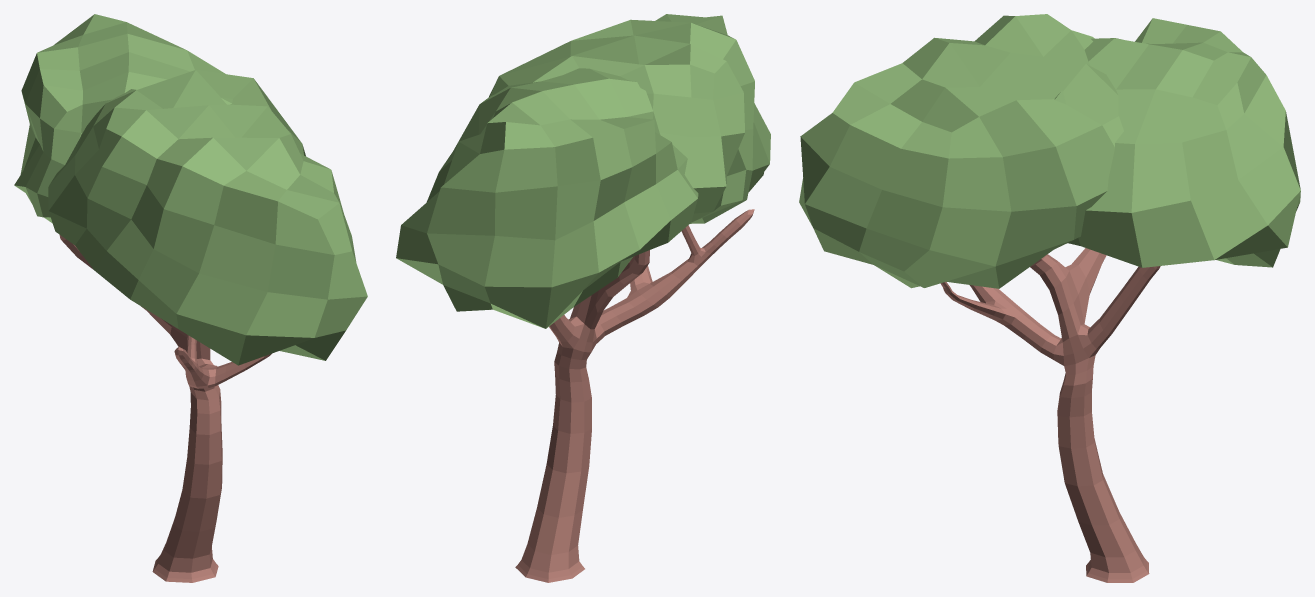
File: tree_5.glb
The picture shows the model from 3 angles, left to right: view 1: azimuth 30°, elevation 25°; view 2: azimuth 150°, elevation 25°; view 3: azimuth 270°, elevation 25°; orthographic projection. The views are drawn at different scales.
Visible parts, largest first — view 1: CommonTree_5; view 2: CommonTree_5; view 3: CommonTree_5.
Part boxes in pixels (<box>): CommonTree_5: <box>14,14,367,582</box>; CommonTree_5: <box>396,14,770,582</box>; CommonTree_5: <box>799,14,1300,582</box>.
Bounding box in the file's own units: 1.29 × 2.53 × 2.25.
